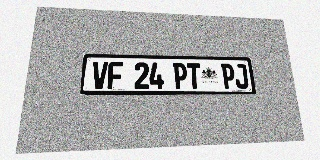2: (134, 62, 149, 89)
4: (149, 62, 164, 89)
F: (107, 62, 123, 89)
J: (234, 64, 249, 89)
P: (173, 63, 188, 89), (221, 64, 236, 89)
T: (187, 63, 201, 89)
V: (91, 61, 108, 89)
